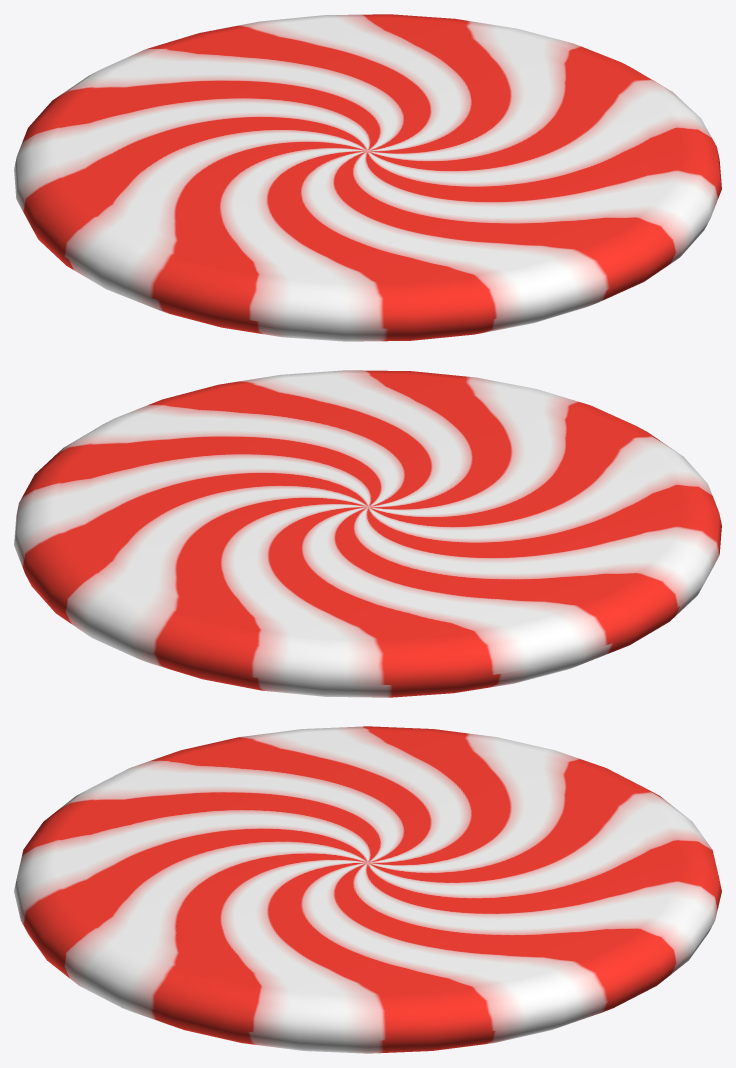
Rendered from lolipop.fbx.
3 renders of one model, top to bottom at view 1: azimuth 30°, elevation 25°; view 2: azimuth 150°, elevation 25°; view 3: azimuth 270°, elevation 25°, orthographic.
Parts seen in each view (by area): view 1: Candy; view 2: Candy; view 3: Candy.
Part boxes in pixels (x1,y1,x2,y2): Candy: (14, 14, 721, 341); Candy: (14, 370, 721, 697); Candy: (14, 726, 721, 1053).
Bounding box in the file's own units: 377 × 34.2 × 377.
Materials: 1 (1 with a texture image).
